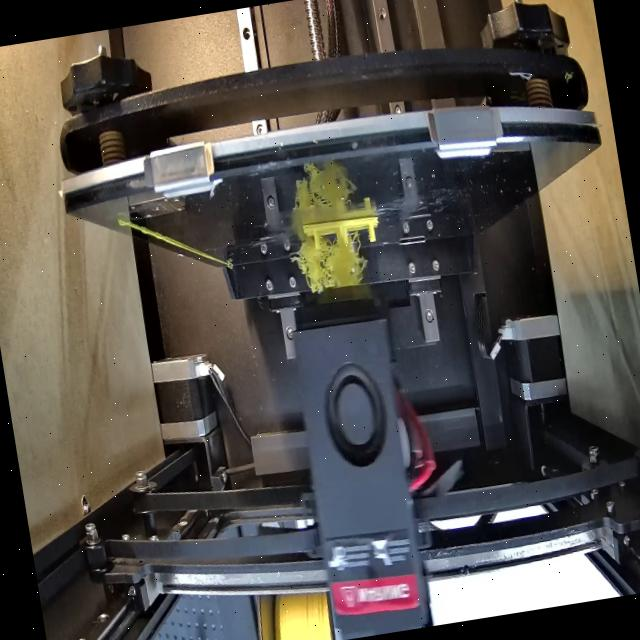spaghetti: (290, 230, 373, 301)
